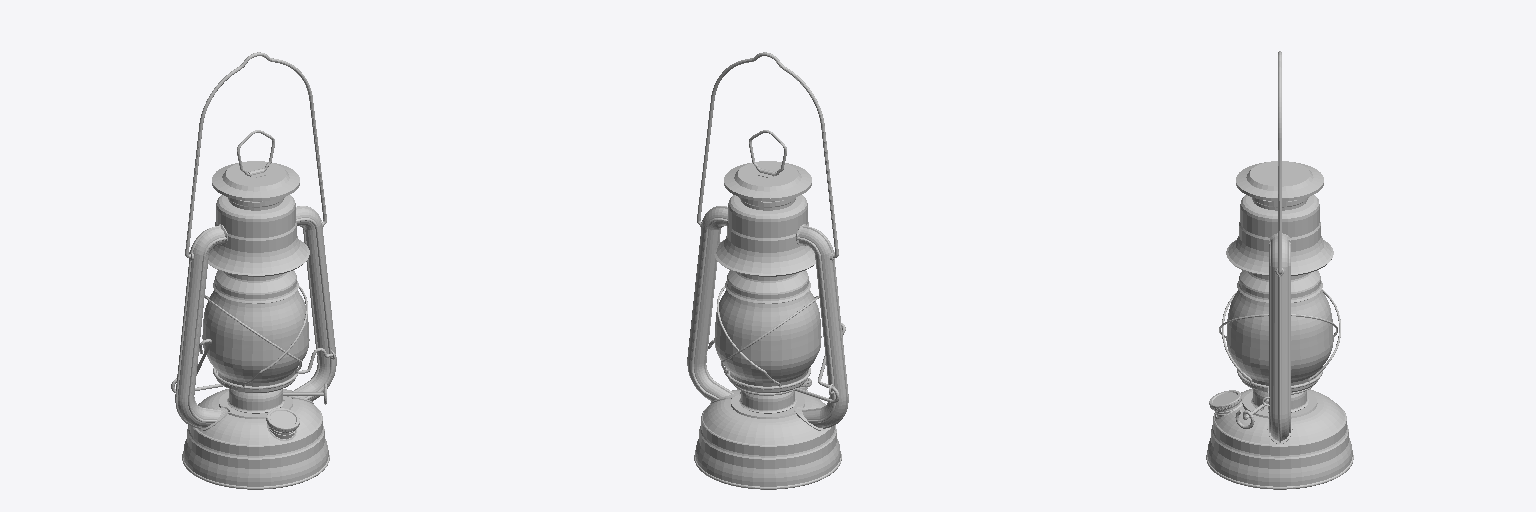
Rendered from Lantern.obj.
3 renders of one model, left to right at view 1: azimuth 30°, elevation 25°; view 2: azimuth 150°, elevation 25°; view 3: azimuth 270°, elevation 25°, orthographic.
Visible parts, largest first — view 1: Lantern_01, Lantern_01_glass; view 2: Lantern_01, Lantern_01_glass; view 3: Lantern_01, Lantern_01_glass.
Part boxes in pixels (bbox=[...]): Lantern_01: bbox=[171, 52, 336, 489]; Lantern_01_glass: bbox=[202, 290, 309, 386]; Lantern_01: bbox=[687, 52, 848, 489]; Lantern_01_glass: bbox=[714, 290, 821, 386]; Lantern_01: bbox=[1206, 51, 1353, 489]; Lantern_01_glass: bbox=[1226, 290, 1333, 385].
Bounding box in the file's own units: 0.1221 × 0.2942 × 0.0972.